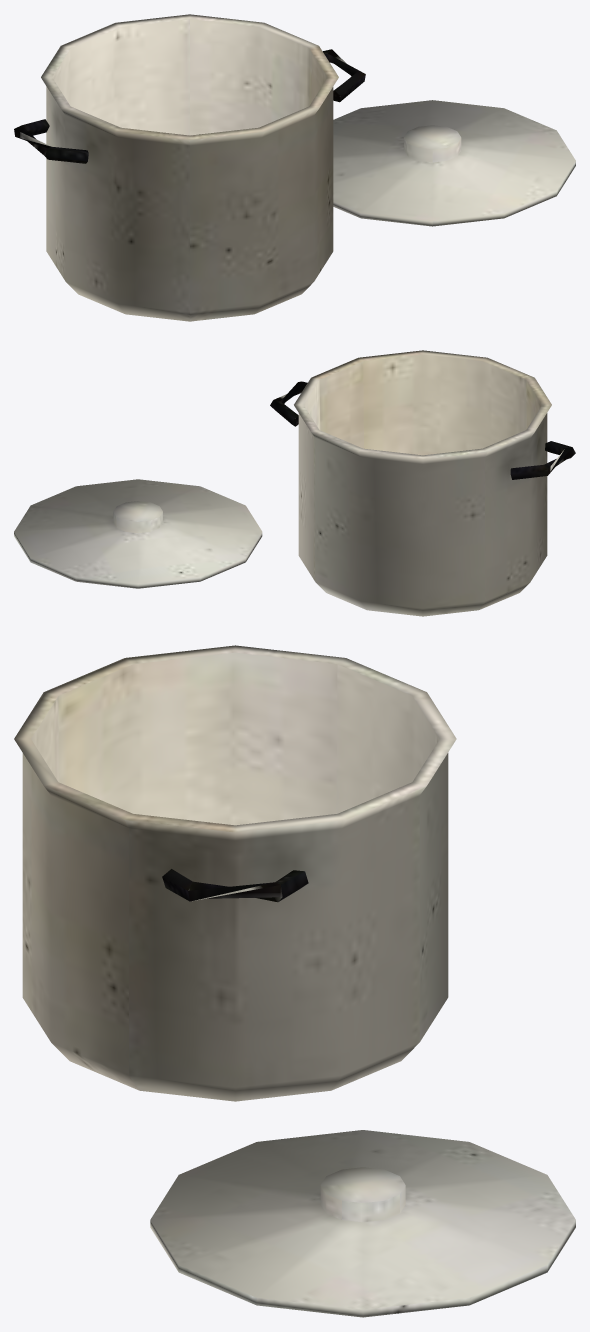
The model's file is pot_lod1_web.glb.
3 views of the same model, one above another, from view 1: azimuth 30°, elevation 25°; view 2: azimuth 150°, elevation 25°; view 3: azimuth 270°, elevation 25° (orthographic). The views are drawn at different scales.
Visible parts, largest first — view 1: Pot_Body; view 2: Pot_Body; view 3: Pot_Body.
Part boxes in pixels (box(x1,y1,x2,y2)): Pot_Body: box(14, 14, 575, 321); Pot_Body: box(14, 350, 575, 616); Pot_Body: box(14, 645, 575, 1317).
Bounding box in the file's own units: 0.4595 × 0.146 × 0.264.
1 material, 1 textured.
